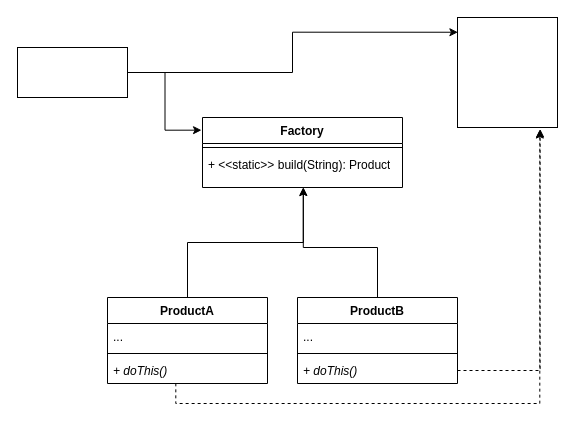
This 575x429 diagram has some shape labels left out. Each missing label, with the centre of its shape:
<<Abstract>> Product ... + doThis(): [507,72]
Client: [72,72]
